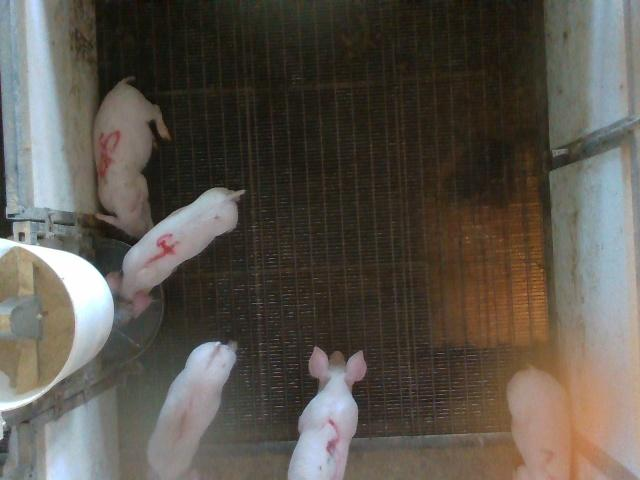pig-1: (148, 341, 236, 478)
pig-2: (508, 368, 571, 478)
pig-3: (288, 348, 366, 479)
pig-4: (106, 189, 245, 317)
pig-5: (94, 78, 171, 237)
